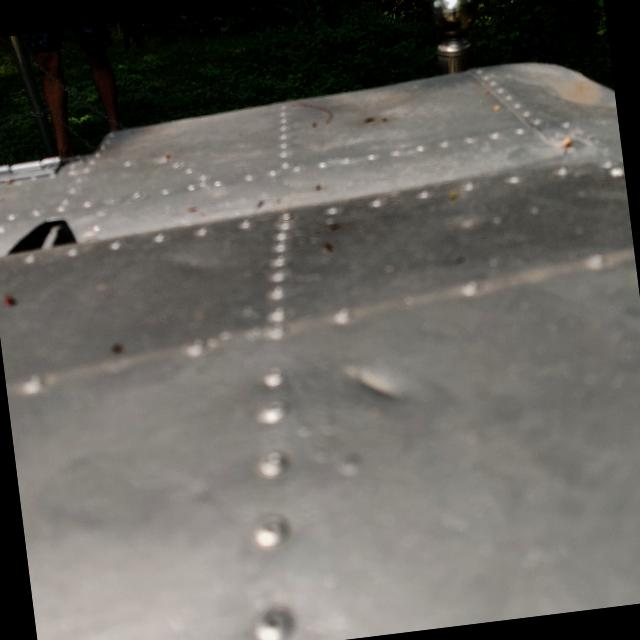dent: (312, 324, 442, 448)
